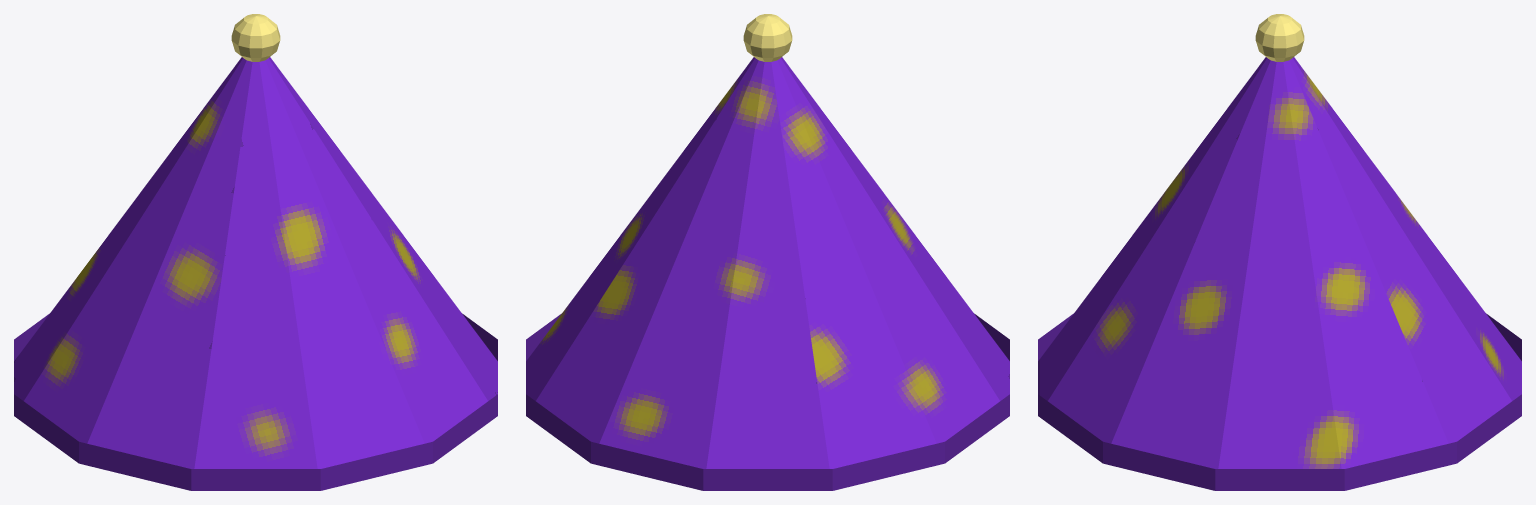
Rendered from merlins_hat.glb.
The picture shows the model from 3 angles, left to right: view 1: azimuth 30°, elevation 25°; view 2: azimuth 150°, elevation 25°; view 3: azimuth 270°, elevation 25°; orthographic projection.
Visible parts, largest first — view 1: cone, sphere; view 2: cone, sphere; view 3: cone, sphere.
Part boxes in pixels (x1,y1,x2,y2): cone: (14, 57, 497, 490); sphere: (231, 14, 280, 61); cone: (526, 57, 1009, 490); sphere: (743, 14, 792, 61); cone: (1038, 57, 1521, 490); sphere: (1255, 14, 1304, 61).
Bounding box in the file's own units: 0.625 × 0.5312 × 0.625.
Materials: 2 (2 with a texture image).
